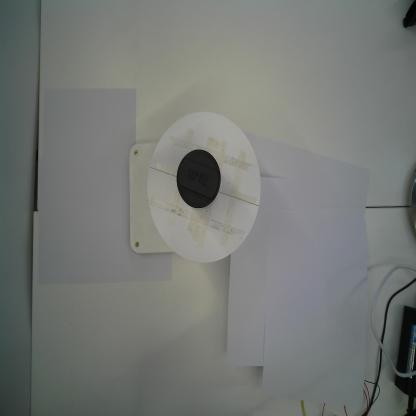Canned Food: (176, 148, 223, 210)
